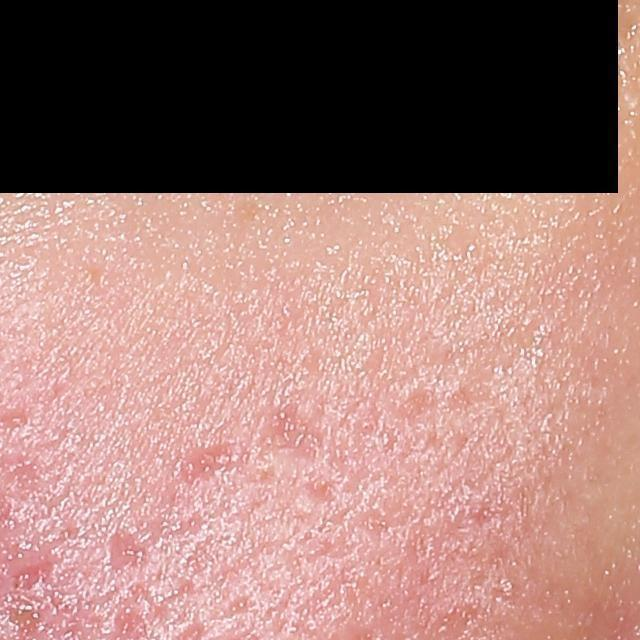atrophic_scar: (400, 380, 480, 473), (171, 438, 250, 494), (258, 398, 322, 460), (107, 523, 151, 577), (299, 478, 344, 507)
